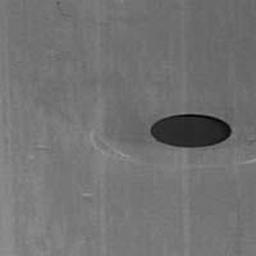Punching: (150, 113, 233, 148)
